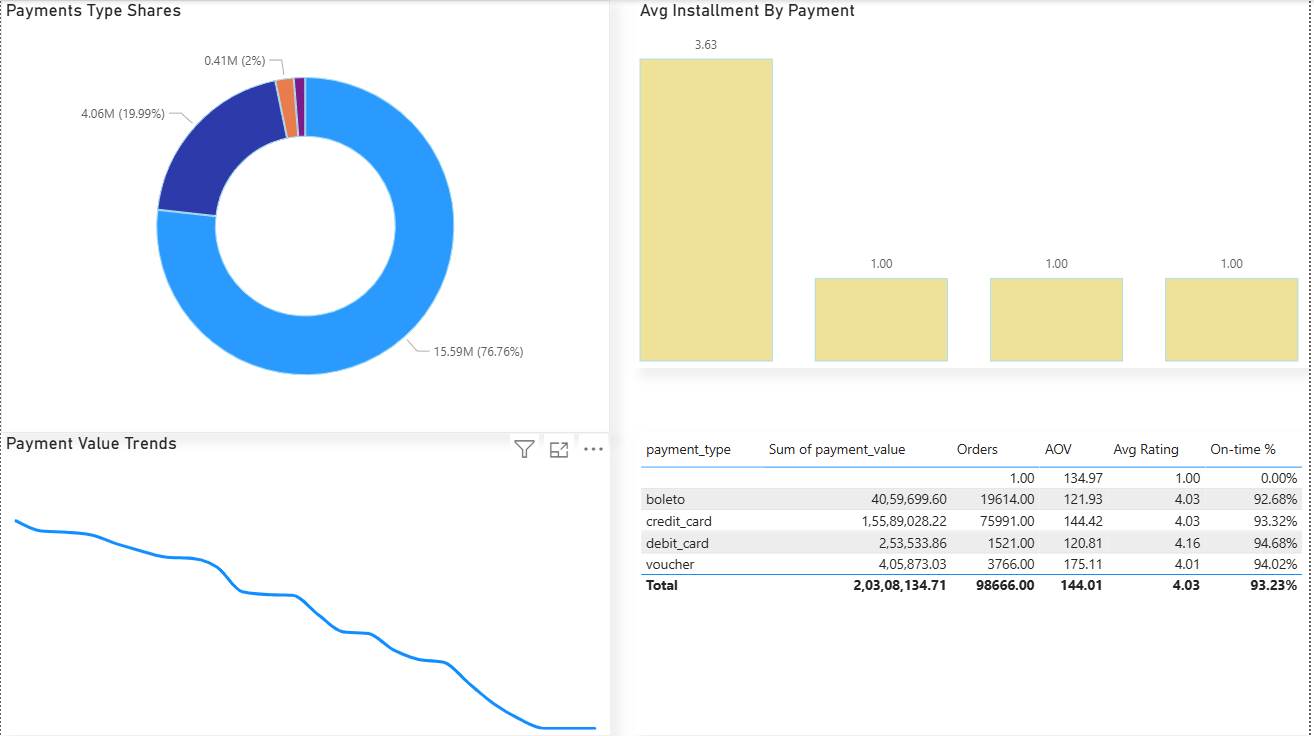

The dashboard page shown, as its layout file describes it:
{"tool":"powerbi","page":{"name":"Payments","canvas":[1280,720],"ordinal":6},"visuals":[{"type":"donutChart","title":"Payments Type Shares","fields":{"Category":["public bi_fact_sales.payment_type"],"Y":["public bi_fact_sales.Payment Value"]},"box":[0,0,595.8,423.6],"z":0},{"type":"clusteredColumnChart","title":"Avg Installment By Payment","fields":{"Category":["public bi_fact_sales.payment_type"],"Y":["public bi_fact_sales.Avg Installments"]},"box":[619.4,0,661.1,359.7],"z":1000},{"type":"lineChart","title":"Payment Value Trends","fields":{"Category":["DimDate.Year-Month"],"Y":["Sum(public bi_fact_sales.payment_value)"]},"box":[0,423.6,595.8,295.8],"z":2000},{"type":"tableEx","title":"Top 20 Category","fields":{"Values":["public bi_fact_sales.payment_type","Sum(public bi_fact_sales.payment_value)","public bi_fact_sales.Orders","public bi_fact_sales.AOV","public bi_fact_sales.Avg Rating","public bi_fact_sales.On-time %"]},"box":[619.4,423.6,661.1,295.8],"z":3000}]}

Visuals, with their boxes in screenshot pixels (x1, y1, x2, y2), scaled from the page's 1280x720 canvas onto the 1314x736 screenshot:
"Payments Type Shares" donutChart: 0,0,612,433
"Avg Installment By Payment" clusteredColumnChart: 636,0,1313,368
"Payment Value Trends" lineChart: 0,433,612,735
"Top 20 Category" tableEx: 636,433,1313,735
